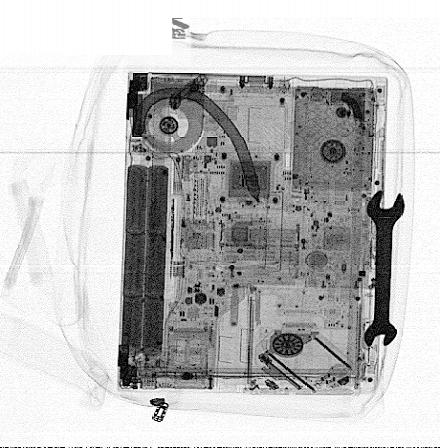Wrench: (363, 189, 406, 349)
